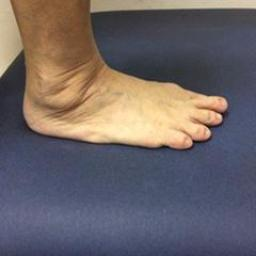Lateral View -Right Foot-: (10, 35, 236, 163)
